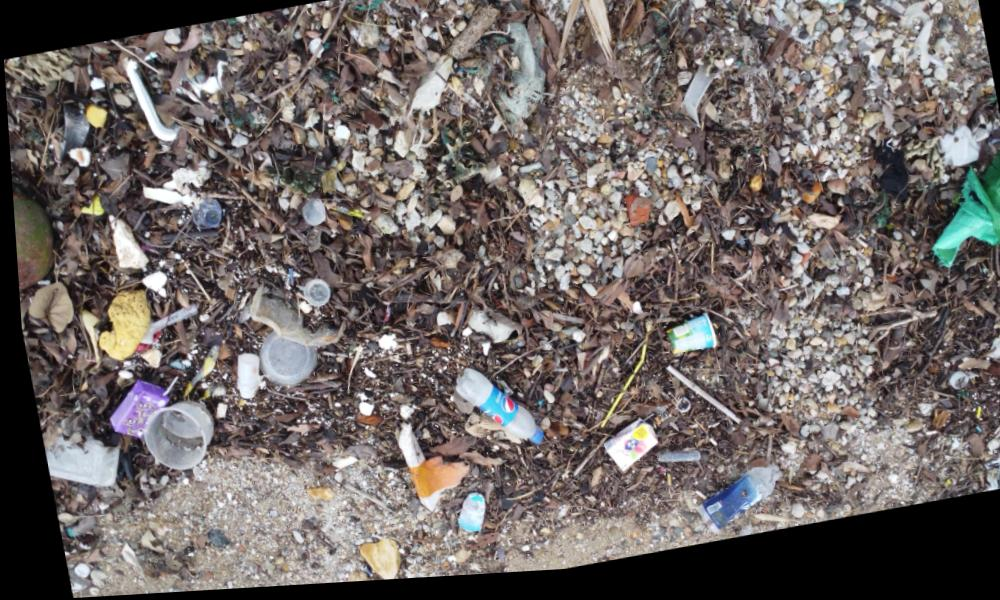carton: (98, 380, 168, 444), (599, 432, 654, 486), (663, 321, 717, 371)
plastic bag: (910, 161, 1000, 283), (930, 136, 1000, 179)
plastic bottle: (446, 362, 544, 462), (693, 478, 783, 543), (294, 279, 329, 316)
plastic container: (123, 391, 226, 486), (243, 326, 324, 397), (38, 435, 123, 498)
